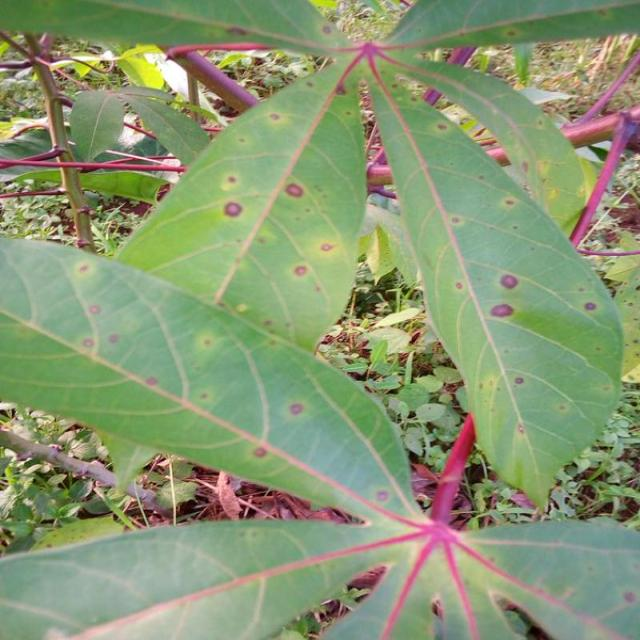cassava leaf: (0, 231, 423, 527), (366, 60, 625, 510), (111, 67, 368, 355)
